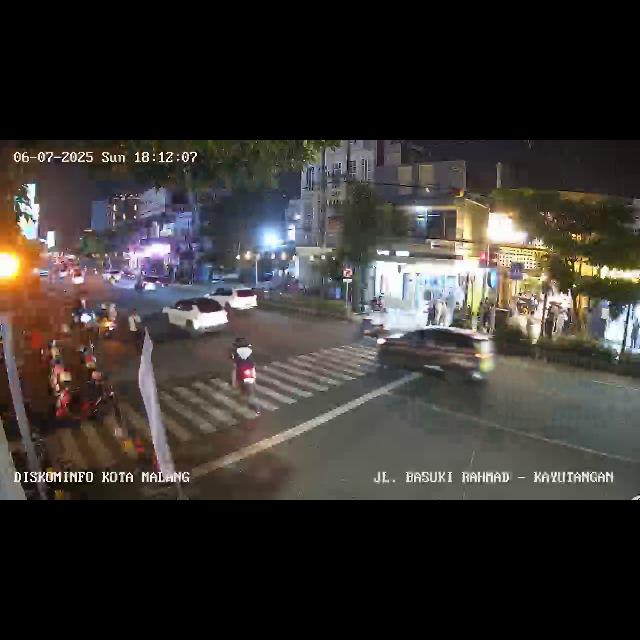car: (378, 324, 494, 386), (162, 296, 230, 340), (204, 285, 258, 313)
motorcycle: (228, 332, 258, 408), (354, 310, 386, 342), (134, 276, 144, 292)
person: (126, 308, 146, 348), (628, 316, 640, 348), (526, 308, 536, 339), (482, 300, 492, 330), (544, 313, 554, 342), (556, 310, 568, 332), (425, 300, 435, 326), (438, 298, 446, 326)
